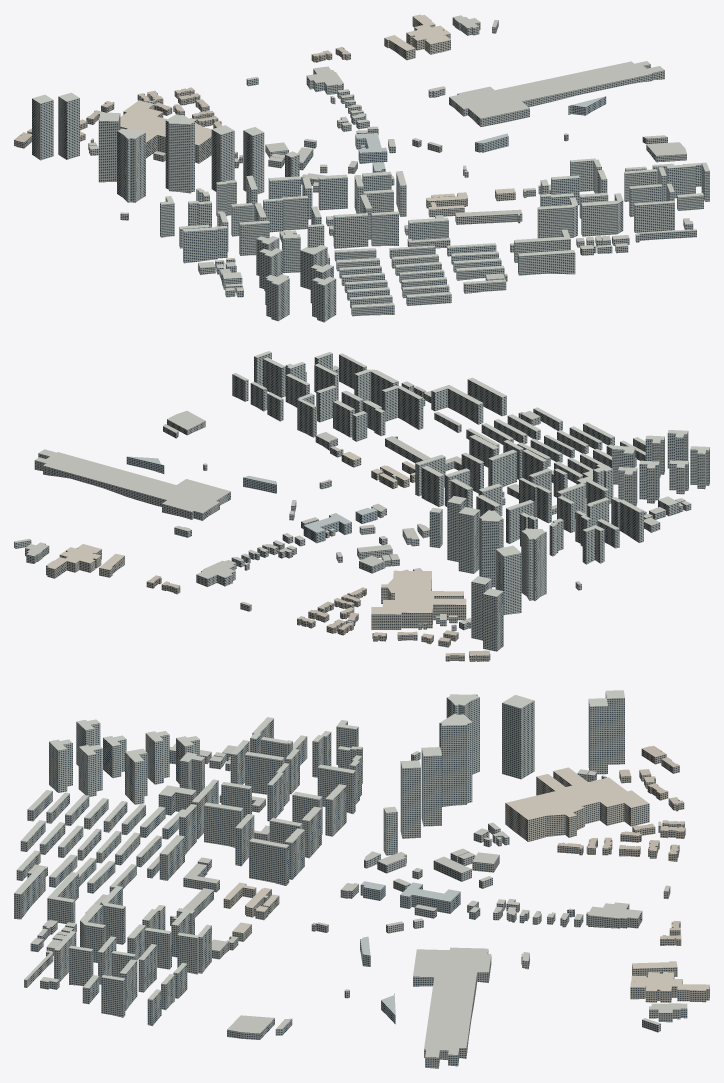
File: city_-4_2.glb
3 renders of one model, top to bottom at view 1: azimuth 30°, elevation 25°; view 2: azimuth 150°, elevation 25°; view 3: azimuth 270°, elevation 25°, orthographic. The views are drawn at different scales.
Size of the model in its own units: 1155 by 141 by 1067.
5 materials, 5 textured.
